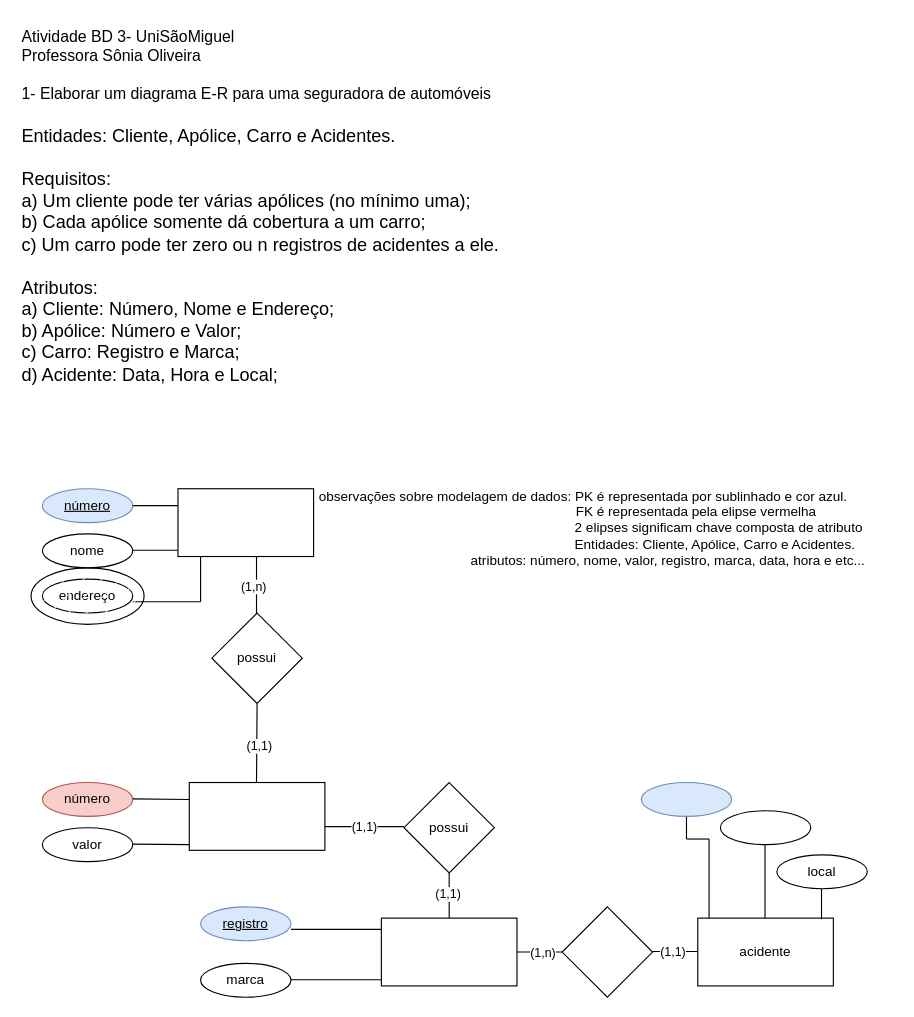
This 914x1017 diagram has some shape labels left out. Each missing label, with the centre of its shape:
"apólice" belongs at [256,815].
"carro" belongs at [448,951].
"cliente" belongs at [245,522].
"cobre" belongs at [607,951].
"data" belongs at [686,798].
"hora" belongs at [765,827].
